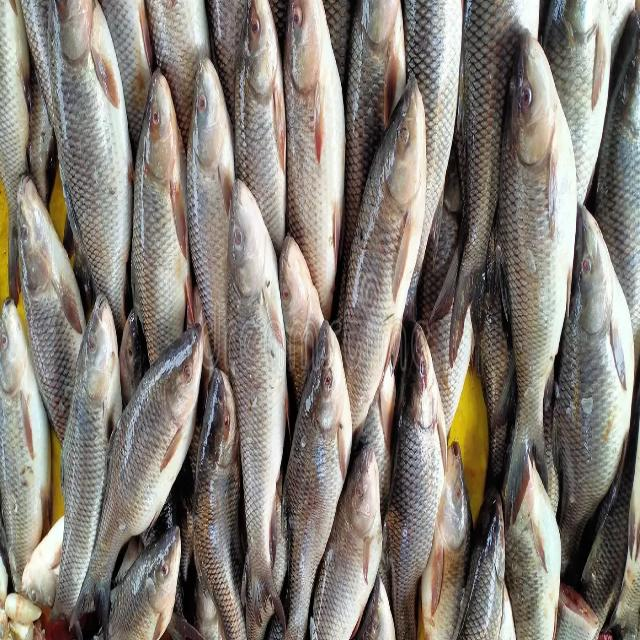Rohu: (498, 31, 579, 518), (336, 78, 425, 442)
